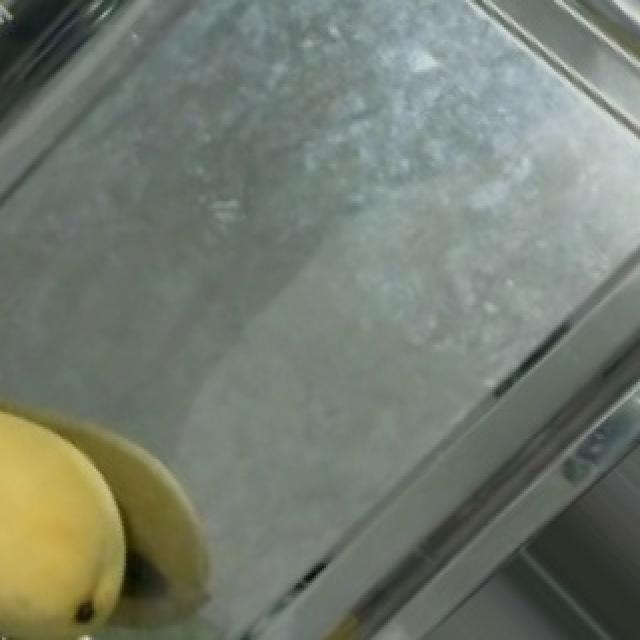fruit: (0, 362, 174, 640)
